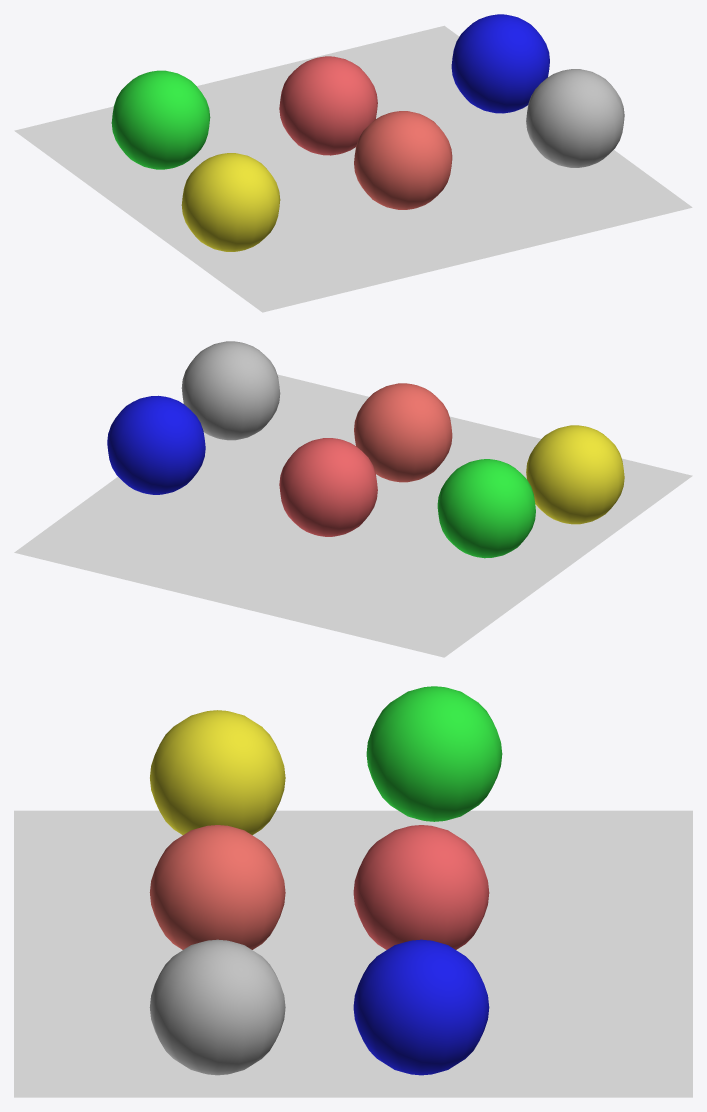
The picture shows the model from 3 angles, top to bottom: view 1: azimuth 30°, elevation 25°; view 2: azimuth 150°, elevation 25°; view 3: azimuth 270°, elevation 25°; orthographic projection. The views are drawn at different scales.
Parts seen in each view (by area): view 1: Plane, Sphere.001, Sphere.005, Sphere, Sphere.002, Sphere.004, Sphere.003; view 2: Plane, Sphere.005, Sphere.003, Sphere.004, Sphere.002, Sphere, Sphere.001; view 3: Plane, Sphere.005, Sphere, Sphere.003, Sphere.004, Sphere.002, Sphere.001.
Boxes of the visible parts, <box> form: Plane: <box>14,25,692,312</box>; Sphere.001: <box>354,111,452,209</box>; Sphere.005: <box>111,70,210,169</box>; Sphere: <box>526,69,624,167</box>; Sphere.002: <box>181,153,280,251</box>; Sphere.004: <box>279,56,377,155</box>; Sphere.003: <box>451,14,549,113</box>; Plane: <box>14,374,692,657</box>; Sphere.005: <box>437,459,535,558</box>; Sphere.003: <box>107,395,205,494</box>; Sphere.004: <box>279,438,377,536</box>; Sphere.002: <box>526,425,624,524</box>; Sphere: <box>181,341,280,440</box>; Sphere.001: <box>354,383,452,482</box>; Plane: <box>14,810,692,1097</box>; Sphere.005: <box>366,686,502,821</box>; Sphere: <box>149,939,285,1075</box>; Sphere.003: <box>353,939,489,1075</box>; Sphere.004: <box>353,825,489,949</box>; Sphere.002: <box>150,710,285,835</box>; Sphere.001: <box>149,825,285,949</box>.
Bounding box in the file's own units: 5 × 1.24 × 5.
